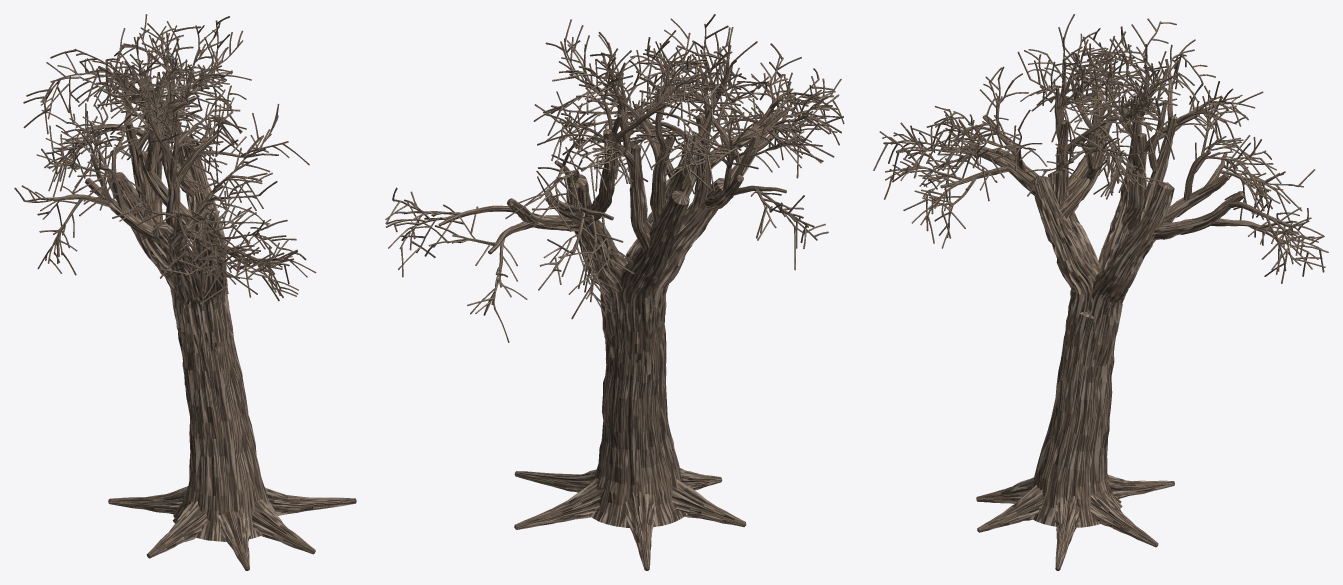
File: Tree_Bark.fbx
3 renders of one model, left to right at view 1: azimuth 30°, elevation 25°; view 2: azimuth 150°, elevation 25°; view 3: azimuth 270°, elevation 25°, orthographic. The views are drawn at different scales.
Visible parts, largest first — view 1: Tree_Bark; view 2: Tree_Bark; view 3: Tree_Bark.
Part boxes in pixels (x1,y1,x2,y2): Tree_Bark: (14,14,356,570); Tree_Bark: (385,14,844,570); Tree_Bark: (873,14,1328,570).
Bounding box in the file's own units: 2.71 × 4.13 × 3.66.
